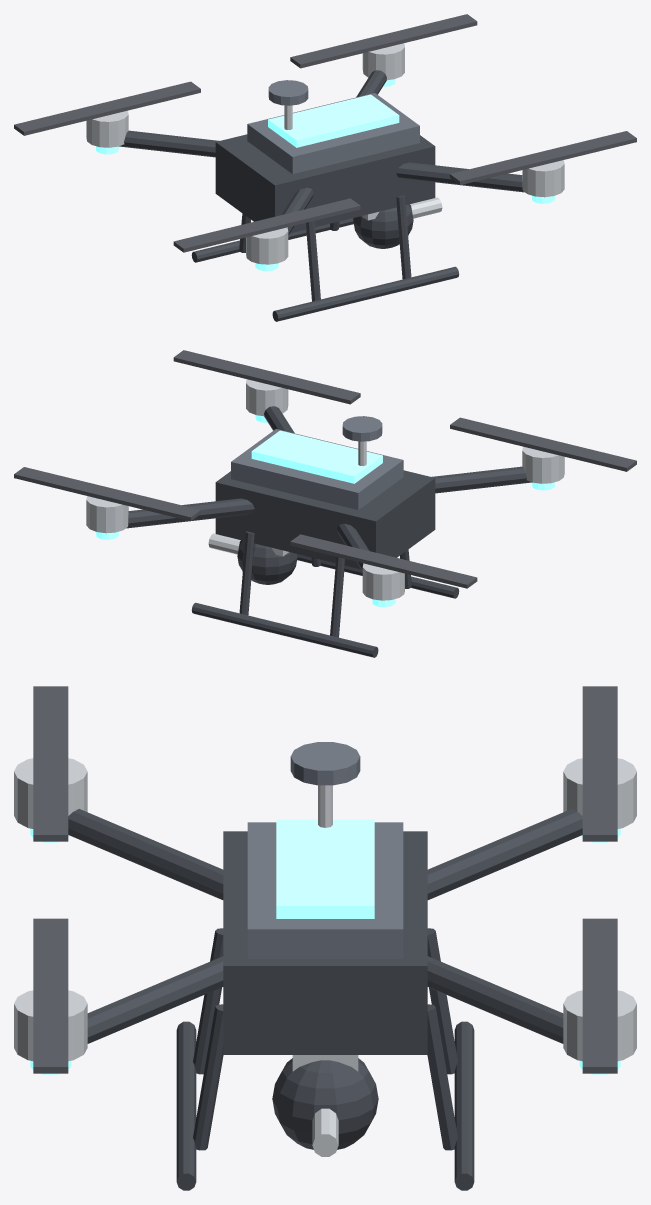
Rendered from quadrotor.glb.
3 views of the same model, one above another, from view 1: azimuth 30°, elevation 25°; view 2: azimuth 150°, elevation 25°; view 3: azimuth 270°, elevation 25° (orthographic). The views are drawn at different scales.
Visible parts, largest first — view 1: FuselageCore, TopCanopy, AccentLED, Rotor_3, Rotor_0, Rotor_1, Rotor_2, SkidBar_-0.34, Arm_1, Arm_2, SensorGimbal, Motor_3 (+10 smaller); view 2: FuselageCore, TopCanopy, AccentLED, Rotor_2, Rotor_1, Rotor_0, Rotor_3, SkidBar_0.34, Arm_0, Arm_3, SensorGimbal, Motor_2 (+10 smaller); view 3: FuselageCore, TopCanopy, AccentLED, SensorGimbal, Rotor_2, Rotor_3, Rotor_0, Rotor_1, Arm_2, Arm_3, Arm_0, Arm_1 (+12 smaller).
Part boxes in pixels (box(x1,y1,x2,y2)): FuselageCore: box(215, 134, 435, 233); TopCanopy: box(247, 93, 419, 173); AccentLED: box(268, 94, 399, 147); Rotor_3: box(173, 198, 360, 252); Rotor_0: box(290, 14, 477, 68); Rotor_1: box(450, 131, 636, 185); Rotor_2: box(14, 81, 200, 135); SkidBar_-0.34: box(272, 266, 459, 321); Arm_1: box(396, 162, 524, 192); Arm_2: box(119, 130, 218, 157); SensorGimbal: box(353, 204, 413, 248); Motor_3: box(246, 227, 288, 264); FuselageCore: box(215, 470, 435, 569); TopCanopy: box(231, 429, 403, 509); AccentLED: box(251, 430, 382, 483); Rotor_2: box(290, 534, 477, 588); Rotor_1: box(173, 350, 360, 404); Rotor_0: box(14, 467, 200, 521); Rotor_3: box(450, 417, 636, 471); SkidBar_0.34: box(191, 602, 378, 657); Arm_0: box(126, 498, 254, 528); Arm_3: box(432, 466, 531, 493); SensorGimbal: box(237, 540, 297, 584); Motor_2: box(362, 563, 404, 600); FuselageCore: box(223, 831, 427, 1054); TopCanopy: box(247, 822, 403, 958); AccentLED: box(276, 819, 374, 918); SensorGimbal: box(272, 1058, 378, 1149); Rotor_2: box(582, 686, 617, 841); Rotor_3: box(33, 686, 68, 841); Rotor_0: box(582, 918, 617, 1073); Rotor_1: box(33, 918, 68, 1073); Arm_2: box(427, 809, 582, 899); Arm_3: box(68, 809, 223, 899); Arm_0: box(427, 956, 563, 1043); Arm_1: box(87, 956, 223, 1043).
Bounding box in the file's own units: 2.2 × 0.8828 × 1.52.
